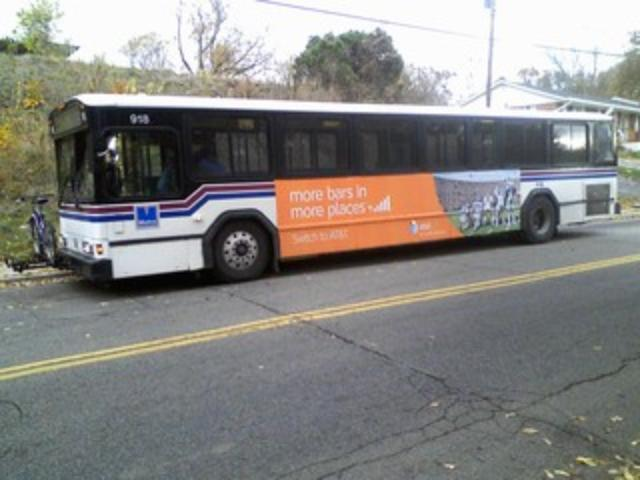bus: (46, 92, 620, 288)
